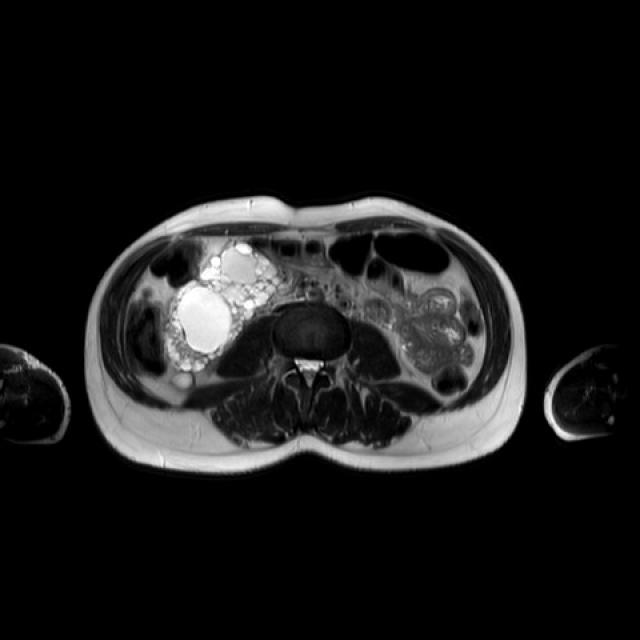sag: (162, 242, 282, 391)
